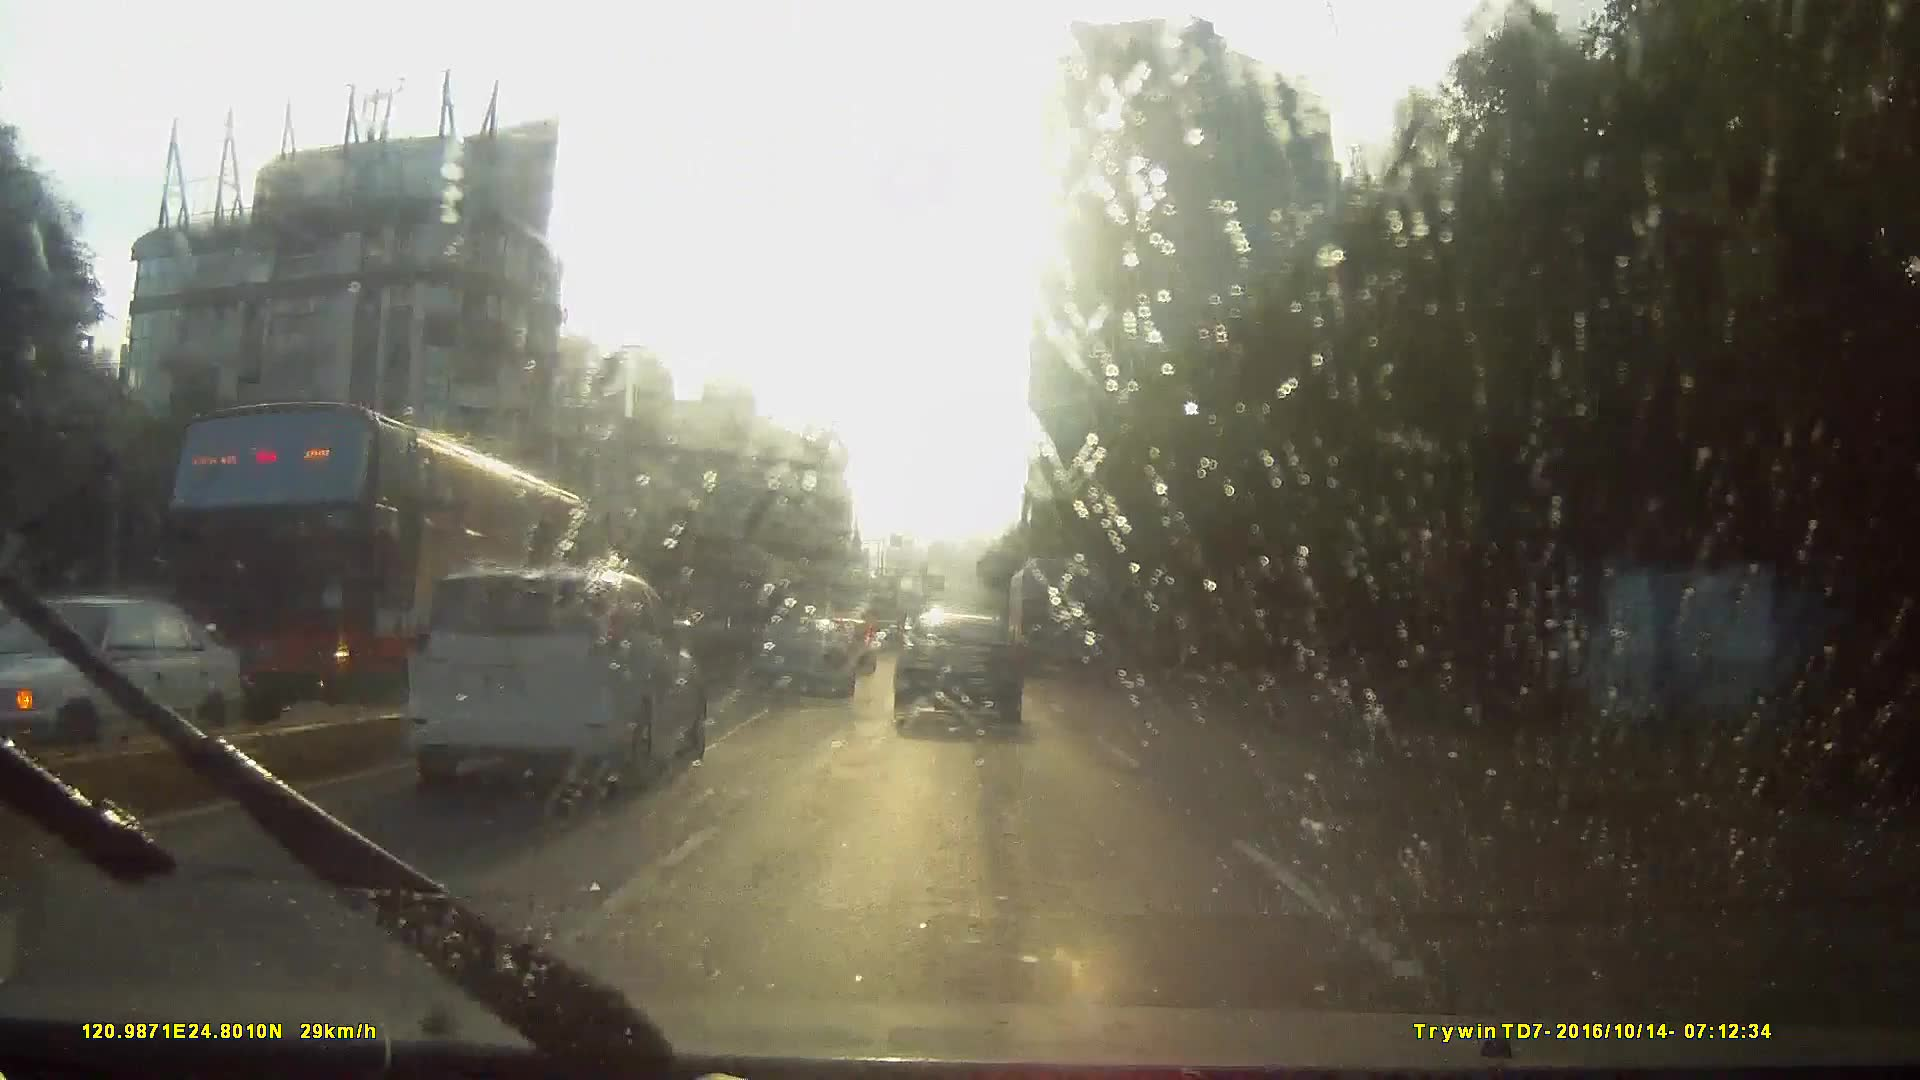vehicle: (117, 394, 618, 738), (251, 556, 684, 868), (406, 571, 708, 799), (0, 597, 199, 761), (893, 618, 1023, 740), (1005, 566, 1110, 692), (746, 626, 853, 713), (866, 638, 915, 687)
